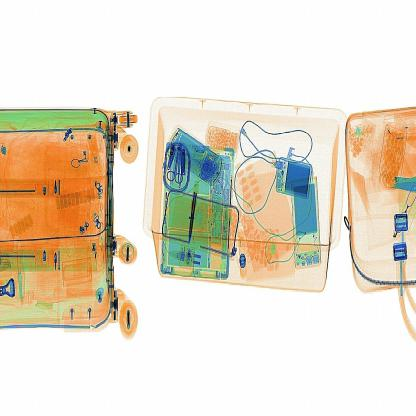gun: (182, 174, 208, 252)
